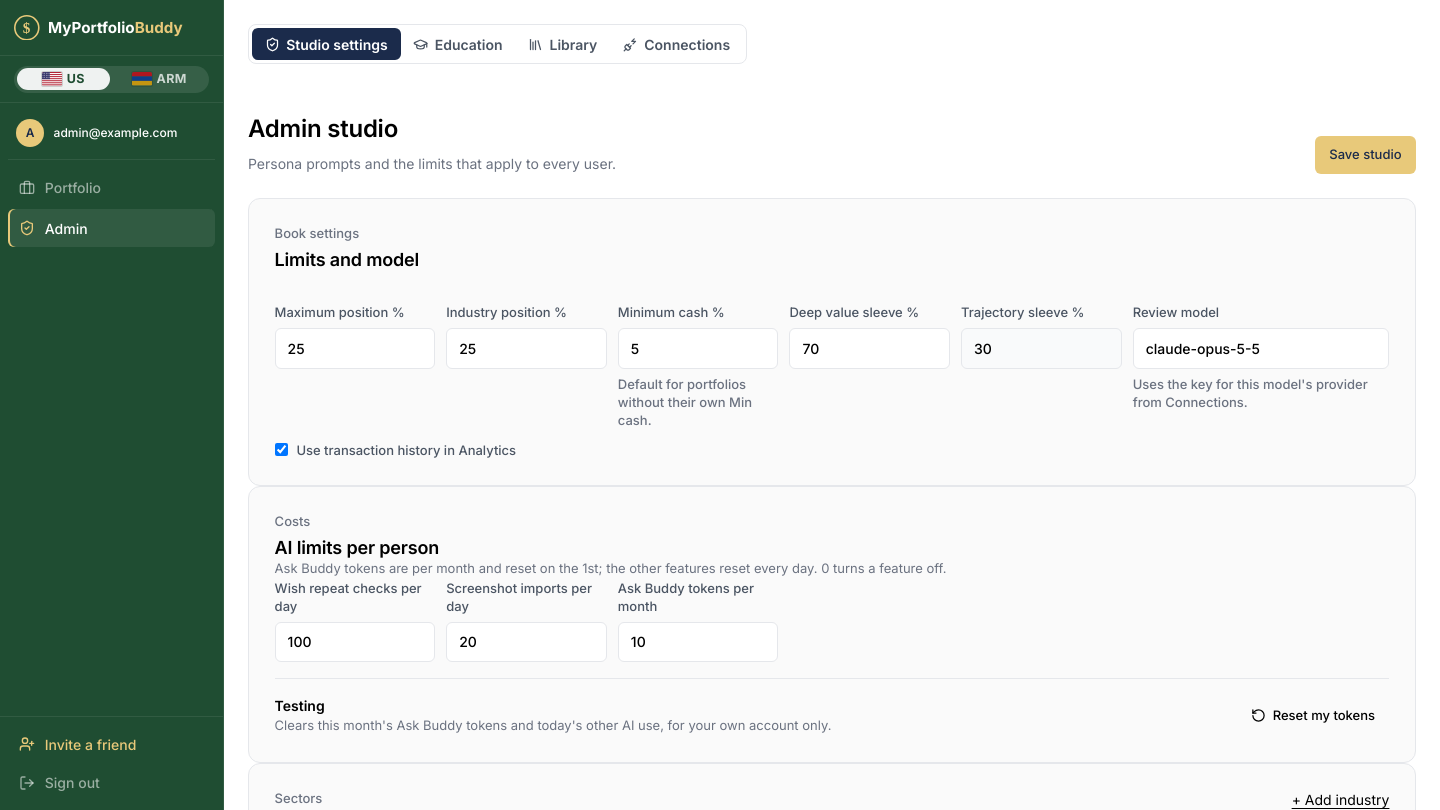
AdminPanel industry catalog › resets the admin's own AI tokens for today without saving the studio
Click the button "Reset my tokens".
click(1313, 716)  # box [1237,697,1390,735]
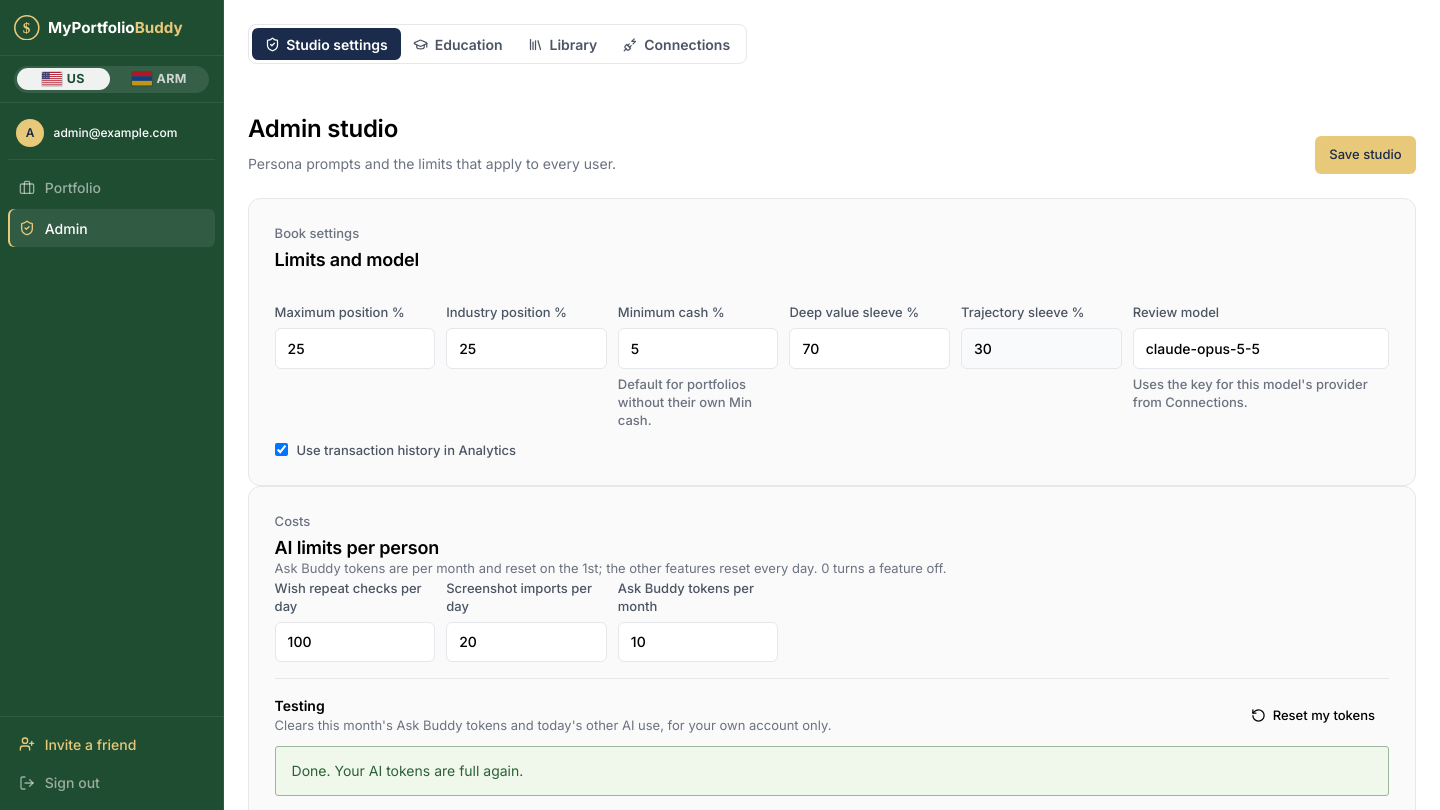
Now the message reads "Done. Your AI tokens are full again.", box [292,762,523,779]
